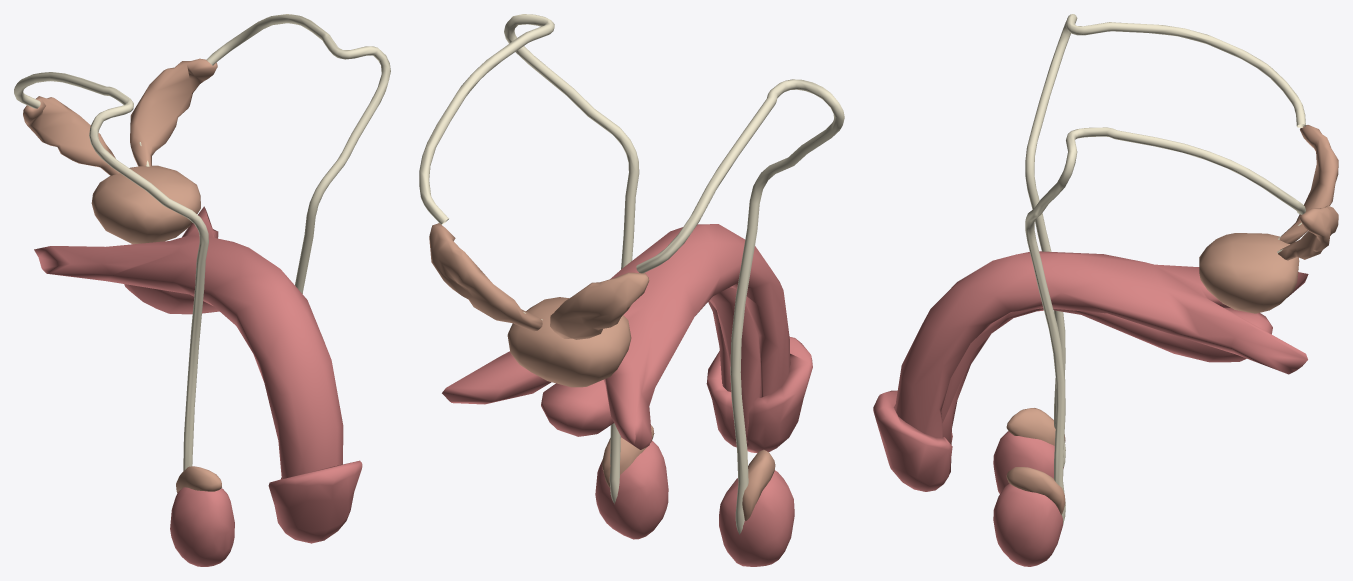
The model's file is adult_male.reproductive.LOD1.glb.
The picture shows the model from 3 angles, left to right: view 1: azimuth 30°, elevation 25°; view 2: azimuth 150°, elevation 25°; view 3: azimuth 270°, elevation 25°; orthographic projection. The views are drawn at different scales.
Parts seen in each view (by area): view 1: ADULT.MALE.REPRODUCTIVE.CORPUS_CAVERNOSUM_OF_PENIS, ADULT.MALE.REPRODUCTIVE.PROSTATE, ADULT.MALE.REPRODUCTIVE.DUCTUS_DEFERENS.R, ADULT.MALE.REPRODUCTIVE.GLANS_PENIS, ADULT.MALE.REPRODUCTIVE.SEMINAL_GLAND.L, ADULT.MALE.REPRODUCTIVE.DUCTUS_DEFERENS.L, ADULT.MALE.REPRODUCTIVE.TESTIS, ADULT.MALE.REPRODUCTIVE.SEMINAL_GLAND.R, ADULT.MALE.REPRODUCTIVE.CORPUS_SPONGIOSUM_OF_PENIS, ADULT.MALE.REPRODUCTIVE.EPIDIDYMIS.R; view 2: ADULT.MALE.REPRODUCTIVE.CORPUS_CAVERNOSUM_OF_PENIS, ADULT.MALE.REPRODUCTIVE.DUCTUS_DEFERENS.R, ADULT.MALE.REPRODUCTIVE.DUCTUS_DEFERENS.L, ADULT.MALE.REPRODUCTIVE.PROSTATE, ADULT.MALE.REPRODUCTIVE.CORPUS_SPONGIOSUM_OF_PENIS, ADULT.MALE.REPRODUCTIVE.GLANS_PENIS, ADULT.MALE.REPRODUCTIVE.TESTIS, ADULT.MALE.REPRODUCTIVE.TESTIS.L, ADULT.MALE.REPRODUCTIVE.SEMINAL_GLAND.L, ADULT.MALE.REPRODUCTIVE.SEMINAL_GLAND.R, ADULT.MALE.REPRODUCTIVE.EPIDIDYMIS.R, ADULT.MALE.REPRODUCTIVE.EPIDIDYMIS.L; view 3: ADULT.MALE.REPRODUCTIVE.CORPUS_CAVERNOSUM_OF_PENIS, ADULT.MALE.REPRODUCTIVE.PROSTATE, ADULT.MALE.REPRODUCTIVE.DUCTUS_DEFERENS.L, ADULT.MALE.REPRODUCTIVE.DUCTUS_DEFERENS.R, ADULT.MALE.REPRODUCTIVE.CORPUS_SPONGIOSUM_OF_PENIS, ADULT.MALE.REPRODUCTIVE.GLANS_PENIS, ADULT.MALE.REPRODUCTIVE.TESTIS.L, ADULT.MALE.REPRODUCTIVE.SEMINAL_GLAND.R, ADULT.MALE.REPRODUCTIVE.TESTIS, ADULT.MALE.REPRODUCTIVE.SEMINAL_GLAND.L, ADULT.MALE.REPRODUCTIVE.EPIDIDYMIS.L, ADULT.MALE.REPRODUCTIVE.EPIDIDYMIS.R.
Boxes of the visible parts, box(x1,y1,x2,y2) form: ADULT.MALE.REPRODUCTIVE.CORPUS_CAVERNOSUM_OF_PENIS: box(34, 206, 343, 479); ADULT.MALE.REPRODUCTIVE.PROSTATE: box(91, 165, 200, 244); ADULT.MALE.REPRODUCTIVE.DUCTUS_DEFERENS.R: box(14, 72, 208, 470); ADULT.MALE.REPRODUCTIVE.GLANS_PENIS: box(268, 460, 362, 543); ADULT.MALE.REPRODUCTIVE.SEMINAL_GLAND.L: box(130, 58, 217, 166); ADULT.MALE.REPRODUCTIVE.DUCTUS_DEFERENS.L: box(206, 14, 390, 293); ADULT.MALE.REPRODUCTIVE.TESTIS: box(170, 487, 234, 566); ADULT.MALE.REPRODUCTIVE.SEMINAL_GLAND.R: box(23, 96, 119, 175); ADULT.MALE.REPRODUCTIVE.CORPUS_SPONGIOSUM_OF_PENIS: box(124, 284, 219, 314); ADULT.MALE.REPRODUCTIVE.EPIDIDYMIS.R: box(176, 466, 221, 492); ADULT.MALE.REPRODUCTIVE.CORPUS_CAVERNOSUM_OF_PENIS: box(442, 224, 789, 449); ADULT.MALE.REPRODUCTIVE.DUCTUS_DEFERENS.R: box(636, 79, 844, 534); ADULT.MALE.REPRODUCTIVE.DUCTUS_DEFERENS.L: box(419, 14, 639, 504); ADULT.MALE.REPRODUCTIVE.PROSTATE: box(507, 297, 631, 387); ADULT.MALE.REPRODUCTIVE.CORPUS_SPONGIOSUM_OF_PENIS: box(541, 287, 760, 448); ADULT.MALE.REPRODUCTIVE.GLANS_PENIS: box(706, 337, 812, 453); ADULT.MALE.REPRODUCTIVE.TESTIS: box(719, 470, 794, 566); ADULT.MALE.REPRODUCTIVE.TESTIS.L: box(595, 440, 668, 539); ADULT.MALE.REPRODUCTIVE.SEMINAL_GLAND.L: box(429, 223, 542, 331); ADULT.MALE.REPRODUCTIVE.SEMINAL_GLAND.R: box(550, 272, 649, 339); ADULT.MALE.REPRODUCTIVE.EPIDIDYMIS.R: box(742, 449, 775, 520); ADULT.MALE.REPRODUCTIVE.EPIDIDYMIS.L: box(602, 425, 654, 487); ADULT.MALE.REPRODUCTIVE.CORPUS_CAVERNOSUM_OF_PENIS: box(894, 251, 1308, 437); ADULT.MALE.REPRODUCTIVE.PROSTATE: box(1199, 233, 1299, 313); ADULT.MALE.REPRODUCTIVE.DUCTUS_DEFERENS.L: box(1025, 127, 1305, 524); ADULT.MALE.REPRODUCTIVE.DUCTUS_DEFERENS.R: box(1025, 14, 1305, 467); ADULT.MALE.REPRODUCTIVE.CORPUS_SPONGIOSUM_OF_PENIS: box(941, 308, 1272, 474); ADULT.MALE.REPRODUCTIVE.GLANS_PENIS: box(873, 390, 952, 491); ADULT.MALE.REPRODUCTIVE.TESTIS.L: box(993, 483, 1062, 566); ADULT.MALE.REPRODUCTIVE.SEMINAL_GLAND.R: box(1279, 125, 1338, 244); ADULT.MALE.REPRODUCTIVE.TESTIS: box(993, 431, 1063, 493); ADULT.MALE.REPRODUCTIVE.SEMINAL_GLAND.L: box(1278, 205, 1338, 260); ADULT.MALE.REPRODUCTIVE.EPIDIDYMIS.L: box(1006, 467, 1065, 514); ADULT.MALE.REPRODUCTIVE.EPIDIDYMIS.R: box(1006, 408, 1065, 445).
Bounding box in the file's own units: 0.1121 × 0.1654 × 0.1509.
